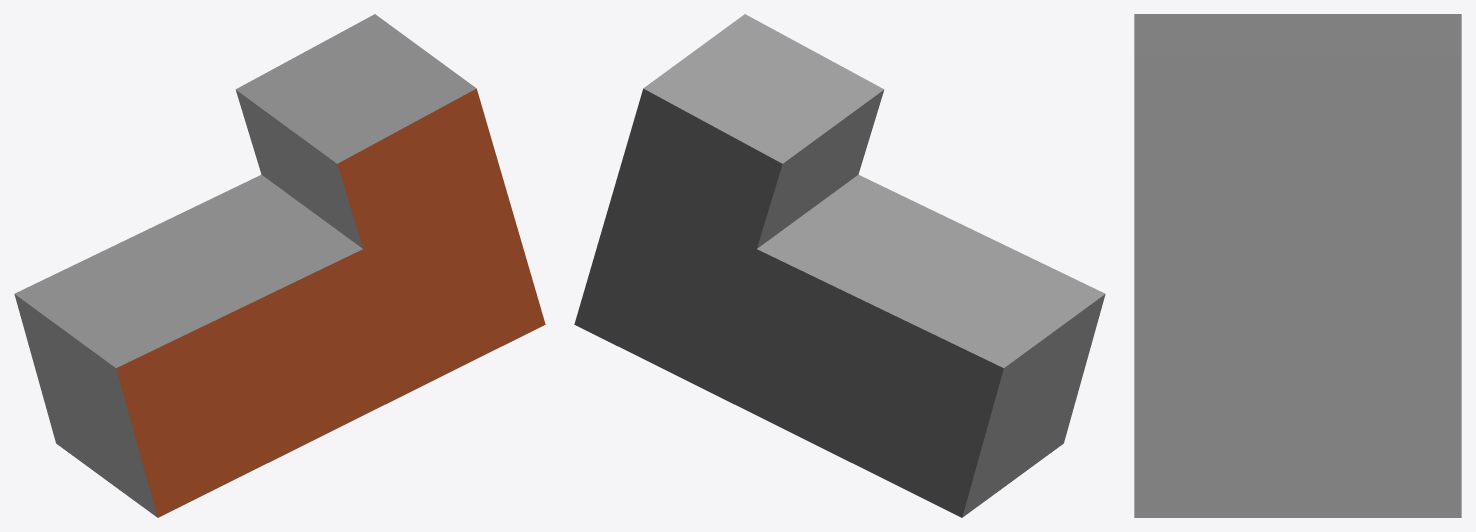
Rendered from construction_3419_assumed_A_Casa_h6m.obj.
The picture shows the model from 3 angles, left to right: view 1: azimuth 30°, elevation 25°; view 2: azimuth 150°, elevation 25°; view 3: azimuth 270°, elevation 25°; orthographic projection. The views are drawn at different scales.
Visible parts, largest first — view 1: construction_3419_assumed_A_Casa; view 2: construction_3419_assumed_A_Casa; view 3: construction_3419_assumed_A_Casa.
Part boxes in pixels (x1=…): construction_3419_assumed_A_Casa: x1=14, y1=14, x2=545, y2=517; construction_3419_assumed_A_Casa: x1=574, y1=14, x2=1105, y2=517; construction_3419_assumed_A_Casa: x1=1134, y1=14, x2=1461, y2=517.
Bounding box in the file's own units: 14.63 × 11.44 × 6.
